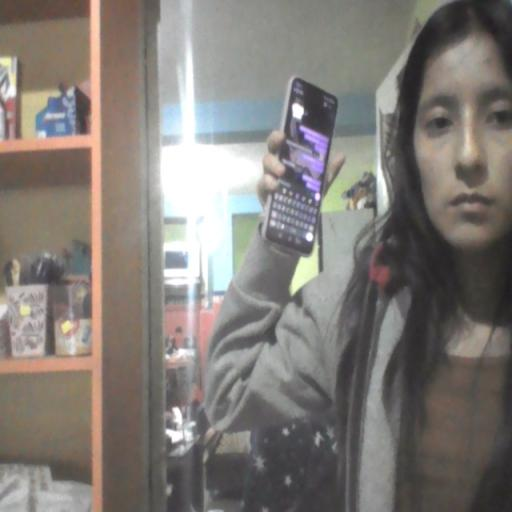phone: (261, 72, 344, 260)
